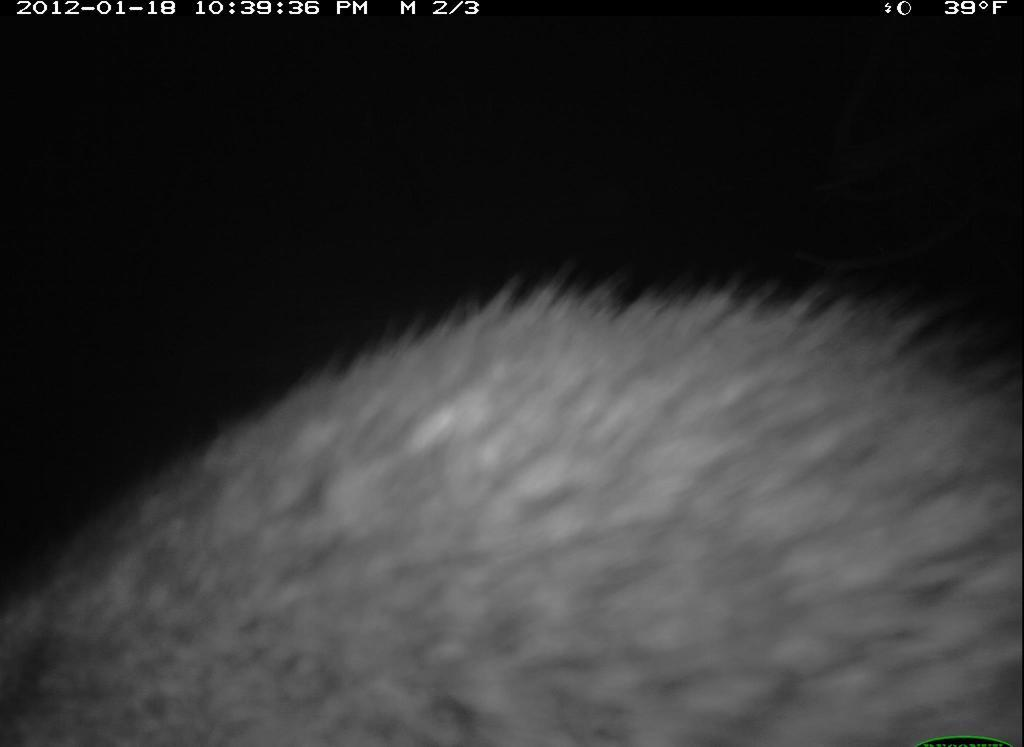raccoon: (13, 276, 1018, 739)
